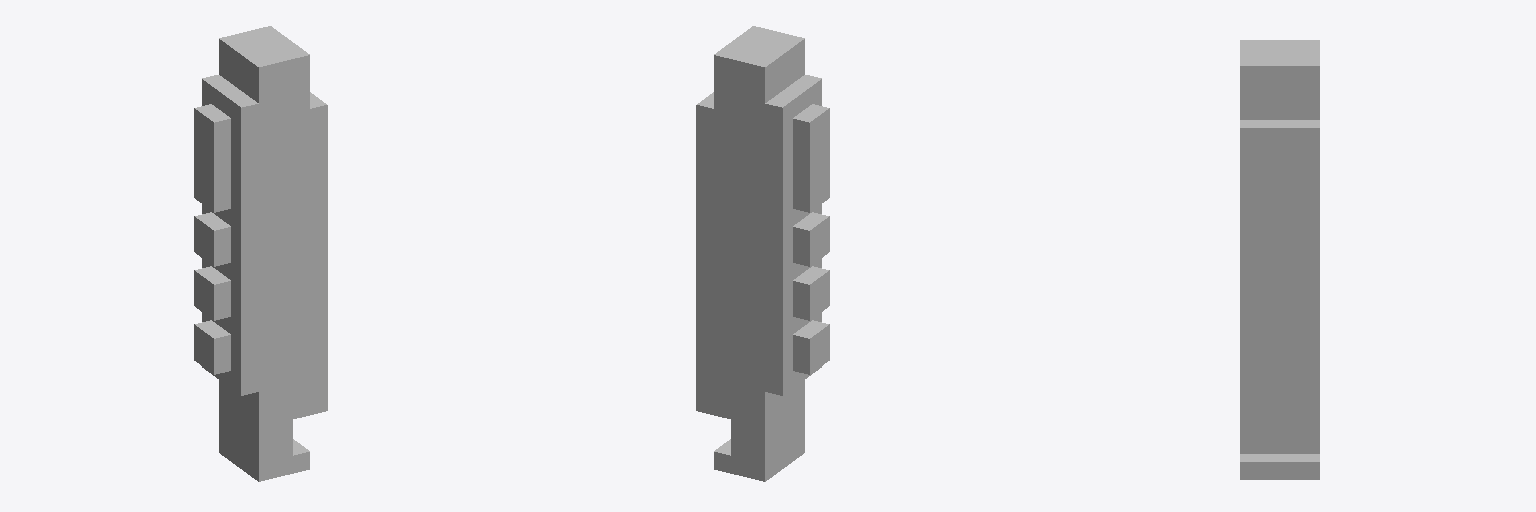
File: Hand.obj
The picture shows the model from 3 angles: view 1: azimuth 30°, elevation 25°; view 2: azimuth 150°, elevation 25°; view 3: azimuth 270°, elevation 25°; orthographic projection.
Size of the model in its own units: 6 by 23 by 4.